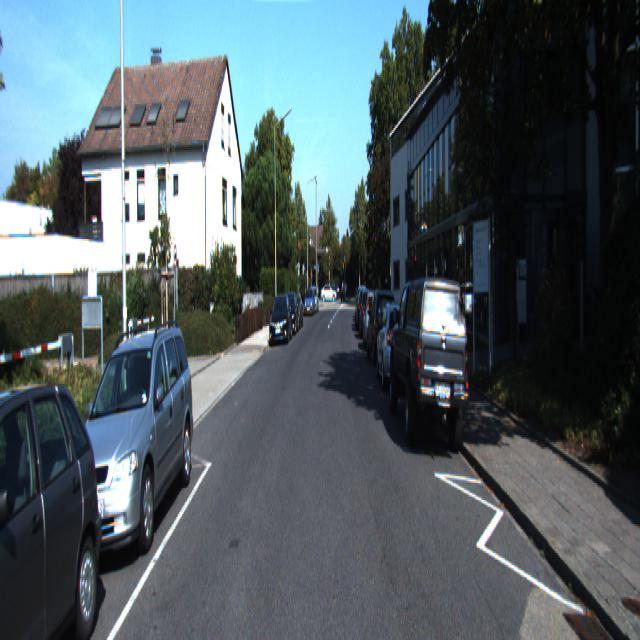Car: (58, 321, 200, 563), (0, 362, 109, 638), (389, 265, 472, 455), (375, 297, 418, 392), (366, 284, 398, 366), (362, 288, 386, 352), (270, 292, 292, 345), (358, 290, 378, 343), (304, 286, 316, 316)
